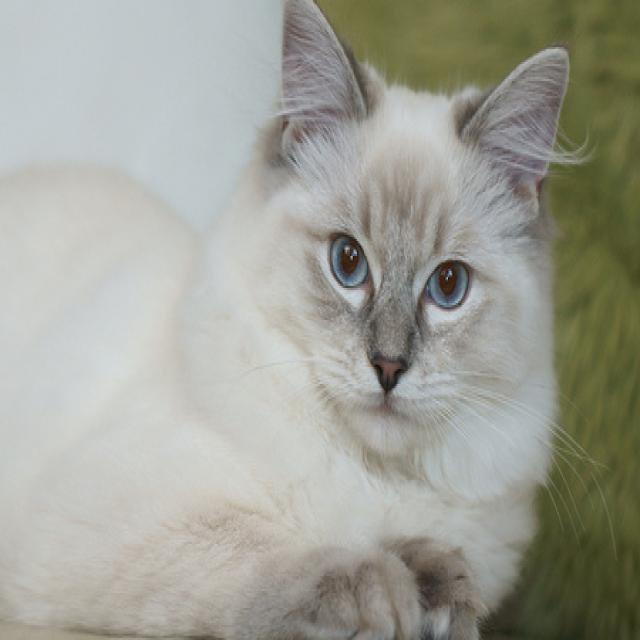Ragdoll: (0, 0, 575, 640)
